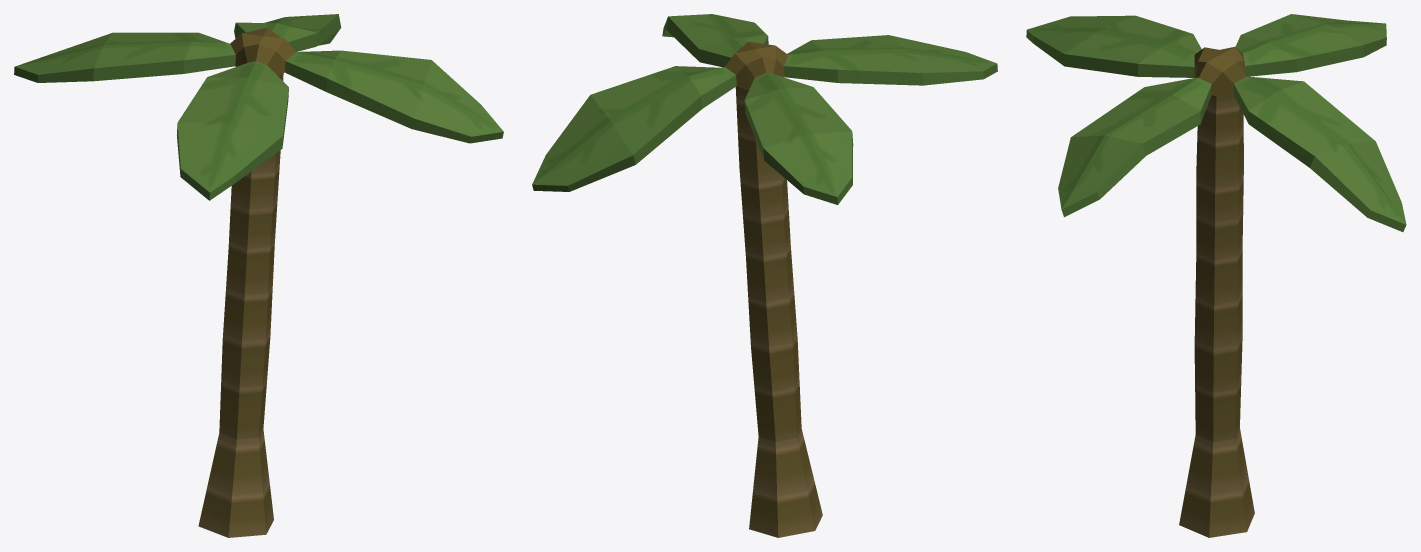
Rendered from PalmTree06.fbx.
3 renders of one model, left to right at view 1: azimuth 30°, elevation 25°; view 2: azimuth 150°, elevation 25°; view 3: azimuth 270°, elevation 25°, orthographic. The views are drawn at different scales.
Visible parts, largest first — view 1: PalmTree06; view 2: PalmTree06; view 3: PalmTree06.
Part boxes in pixels (x1,y1,x2,y2): PalmTree06: (14, 14, 503, 537); PalmTree06: (532, 14, 997, 537); PalmTree06: (1026, 14, 1406, 537).
Bounding box in the file's own units: 43.83 × 61.55 × 43.96.
Materials: 1 (1 with a texture image).
